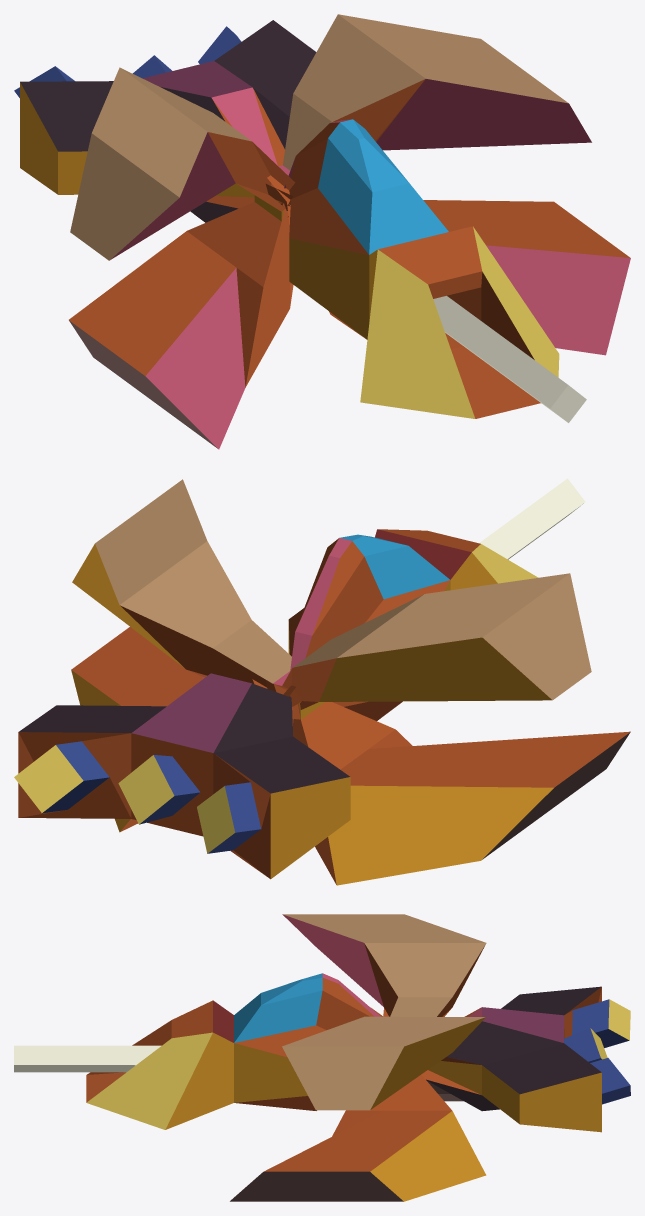
File: AvaruusAlusVihu2.fbx
3 renders of one model, top to bottom at view 1: azimuth 30°, elevation 25°; view 2: azimuth 150°, elevation 25°; view 3: azimuth 270°, elevation 25°, orthographic. The views are drawn at different scales.
Parts seen in each view (by area): view 1: Cube; view 2: Cube; view 3: Cube.
Boxes of the visible parts, <box> form: Cube: <box>14,14,630,449</box>; Cube: <box>14,478,630,885</box>; Cube: <box>14,914,630,1201</box>.
Bounding box in the file's own units: 445 × 206 × 705.
